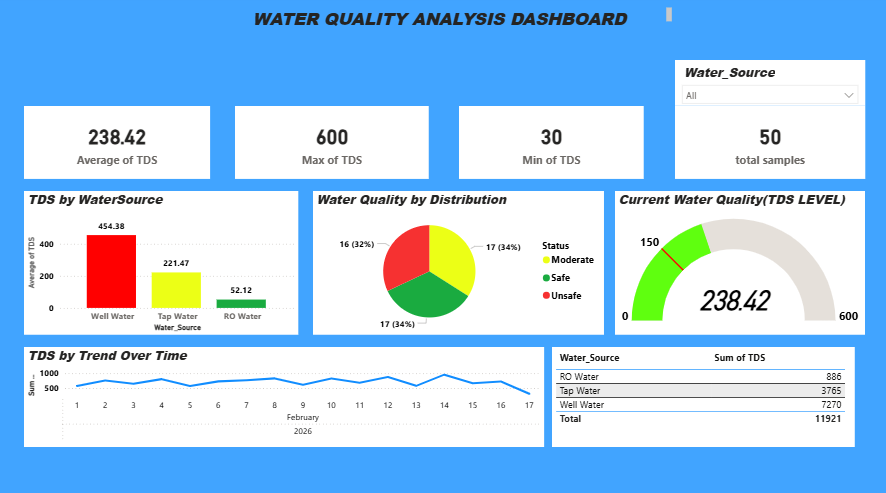

This screenshot's page, from the dashboard's own definition file:
{"tool":"powerbi","page":{"name":"Page 1","canvas":[1280,720],"ordinal":0},"visuals":[{"type":"card","fields":{"Values":["Avg(Table1.TDS)"]},"box":[36,159.8,267.8,105.1],"z":0},{"type":"card","fields":{"Values":["Max(Table1.TDS)"]},"box":[339.8,159.8,279.4,105.1],"z":1000},{"type":"card","fields":{"Values":["Min(Table1.TDS)"]},"box":[662.4,159.8,266.4,105.1],"z":2000},{"type":"columnChart","title":"TDS by WaterSource","fields":{"Category":["Table1.Water_Source"],"Y":["Avg(Table1.TDS)"]},"box":[36,282.2,394.6,207.4],"z":3000},{"type":"pieChart","title":"Water Quality by Distribution","fields":{"Category":["Table1.Status"],"Y":["CountNonNull(Table1.Sample_ID)"]},"box":[452.2,282.2,419,207.4],"z":4000},{"type":"gauge","title":"Current Water Quality(TDS LEVEL)","fields":{"Y":["Avg(Table1.TDS)"],"MinValue":["Table1.MIN VALUE"],"MaxValue":["Table1.MAX VALUE"],"TargetValue":["Table1.TARFET VALUE"]},"box":[887,282.2,360,207.4],"z":5000},{"type":"tableEx","fields":{"Values":["Table1.Water_Source","Sum(Table1.TDS)"]},"box":[796.3,506.9,436.3,144],"z":6000},{"type":"slicer","fields":{"Values":["Table1.Water_Source"]},"box":[973.4,93.6,273.6,66.2],"z":7000},{"type":"lineChart","title":" TDS by Trend Over Time","fields":{"Y":["Sum(Table1.TDS)"],"Category":["Table1.Date.Variation.Date Hierarchy.Year","Table1.Date.Variation.Date Hierarchy.Month","Table1.Date.Variation.Date Hierarchy.Day"]},"box":[36,506.9,748.8,144],"z":8000},{"type":"card","fields":{"Values":["Table1.total samples"]},"box":[973.4,159.8,273.6,105.1],"z":9000},{"type":"textbox","box":[303.8,13,669.6,41.8],"z":10000}]}

Visuals, with their boxes in screenshot pixels (x1, y1, x2, y2), scaled from the page's 1280x720 canvas onto the 886x493 screenshot:
card - Avg(Table1.TDS): bbox(25, 109, 210, 181)
card - Max(Table1.TDS): bbox(235, 109, 429, 181)
card - Min(Table1.TDS): bbox(459, 109, 643, 181)
"TDS by WaterSource" columnChart: bbox(25, 193, 298, 335)
"Water Quality by Distribution" pieChart: bbox(313, 193, 603, 335)
"Current Water Quality(TDS LEVEL)" gauge: bbox(614, 193, 863, 335)
tableEx - Table1.Water_Source x Sum(Table1.TDS): bbox(551, 347, 853, 446)
slicer - Table1.Water_Source: bbox(674, 64, 863, 109)
" TDS by Trend Over Time" lineChart: bbox(25, 347, 543, 446)
card - Table1.total samples: bbox(674, 109, 863, 181)
textbox: bbox(210, 9, 674, 38)
